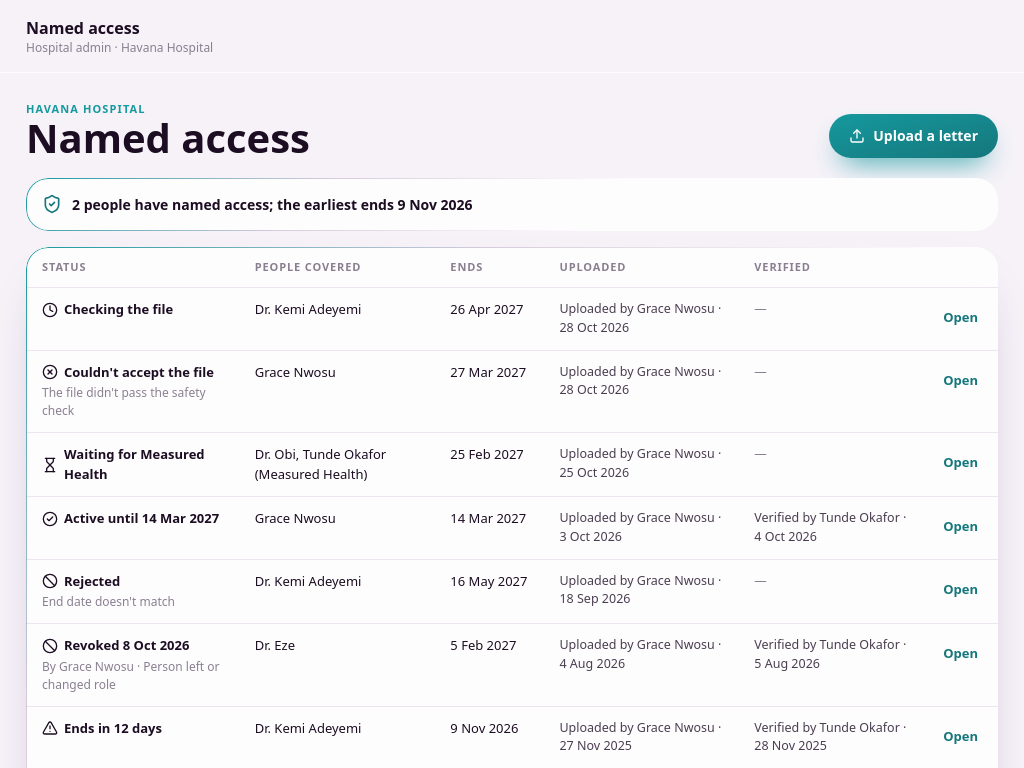
it: LetterDetail › a checking letter has no View letter
This screenshot has width=1024, height=768.
Click the button with aria-label "Open the letter" at (961, 318), box [931, 296, 990, 340]
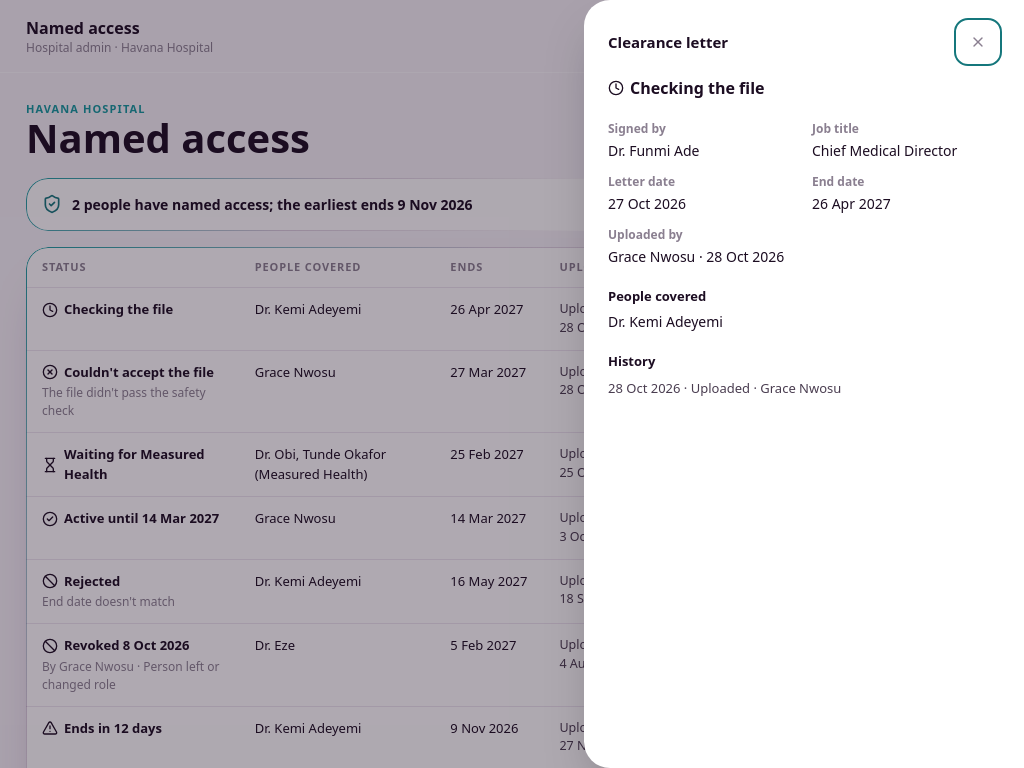
Check: the text "Signed by" is shown, box [608, 120, 666, 137]
Check: the text "Checking the file" is shown, box [608, 77, 764, 99]
